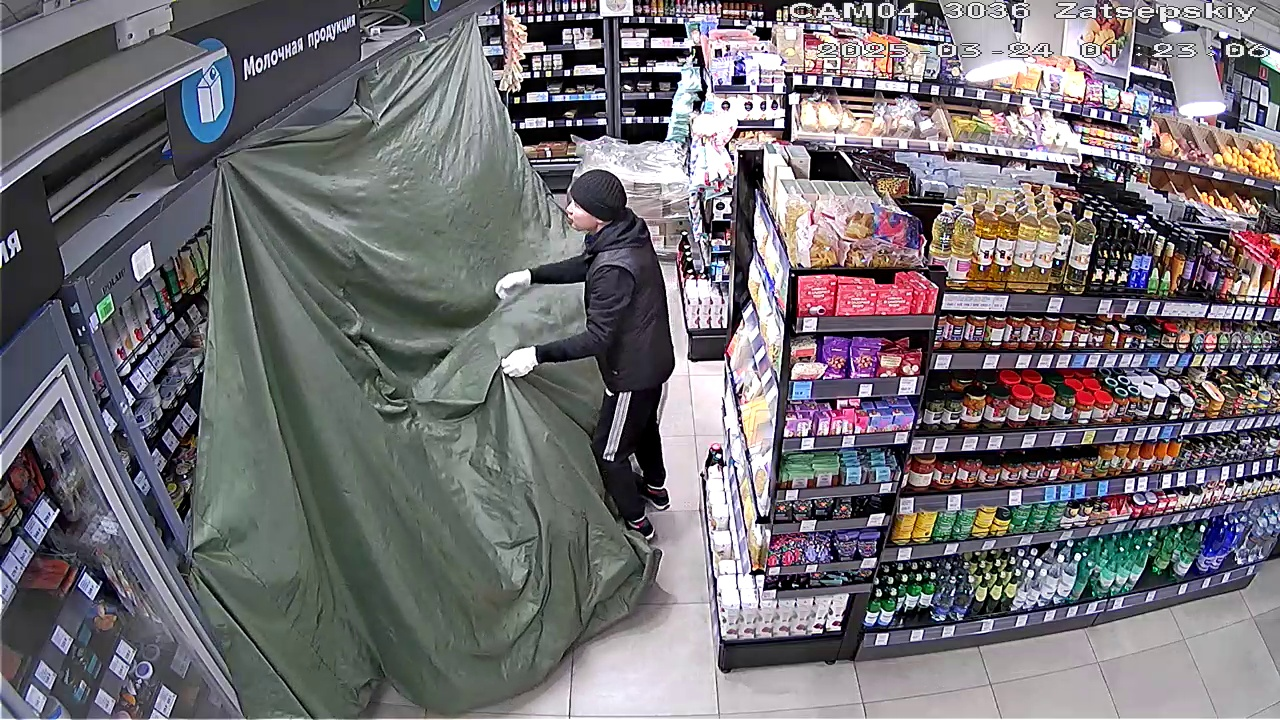Human: (499, 167, 667, 547)
dome: (178, 27, 659, 714)
pallet: (576, 134, 700, 251)
